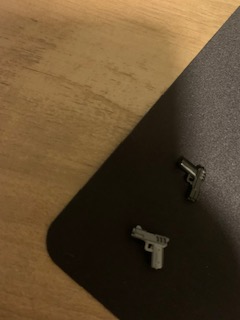pistol: (126, 222, 171, 272), (173, 156, 208, 202)
